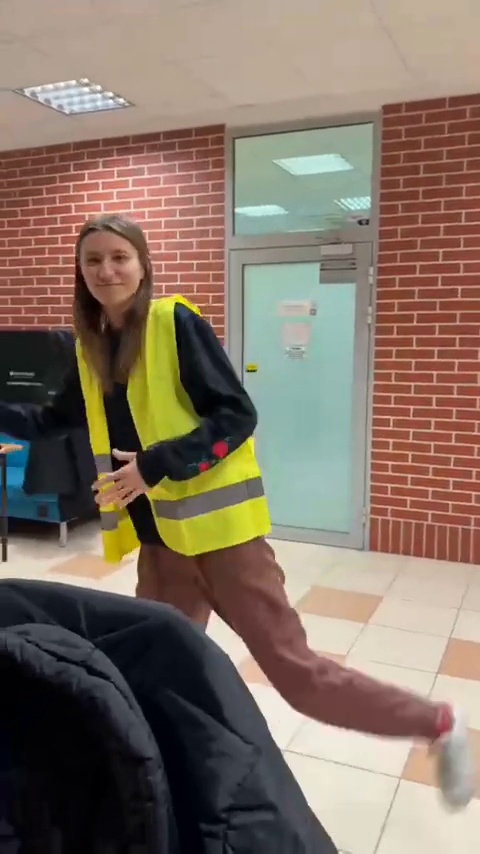vest: (62, 219, 336, 716)
